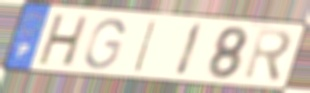8: (204, 25, 250, 81)
G: (82, 16, 127, 71)
H: (34, 13, 92, 69)
I: (172, 20, 206, 79), (131, 18, 160, 74)
R: (241, 26, 294, 85)
